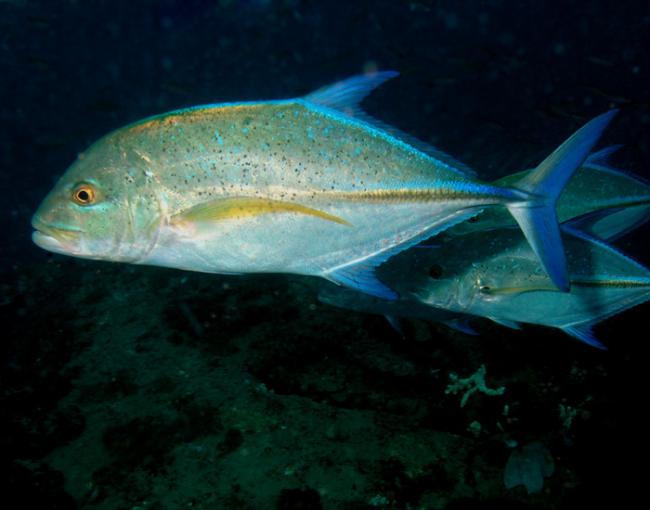fish: (32, 71, 620, 299)
